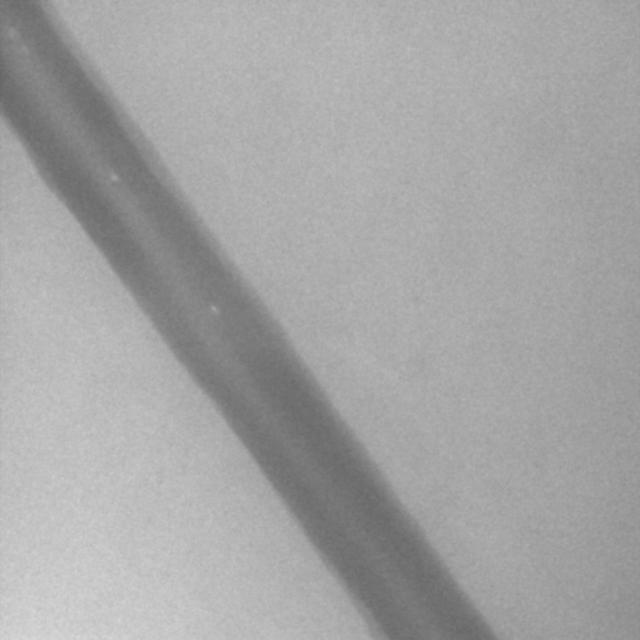air hole: (109, 171, 120, 184), (208, 302, 219, 314)
